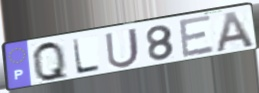8: (144, 24, 176, 62)
A: (214, 9, 257, 54)
E: (177, 14, 216, 60)
L: (71, 38, 102, 76)
Q: (30, 40, 71, 83)
U: (103, 26, 141, 70)
